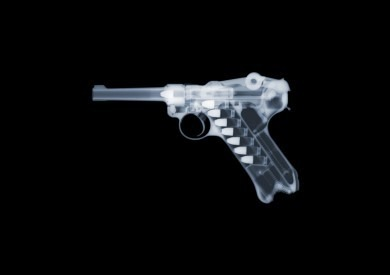gun: (84, 71, 306, 207)
